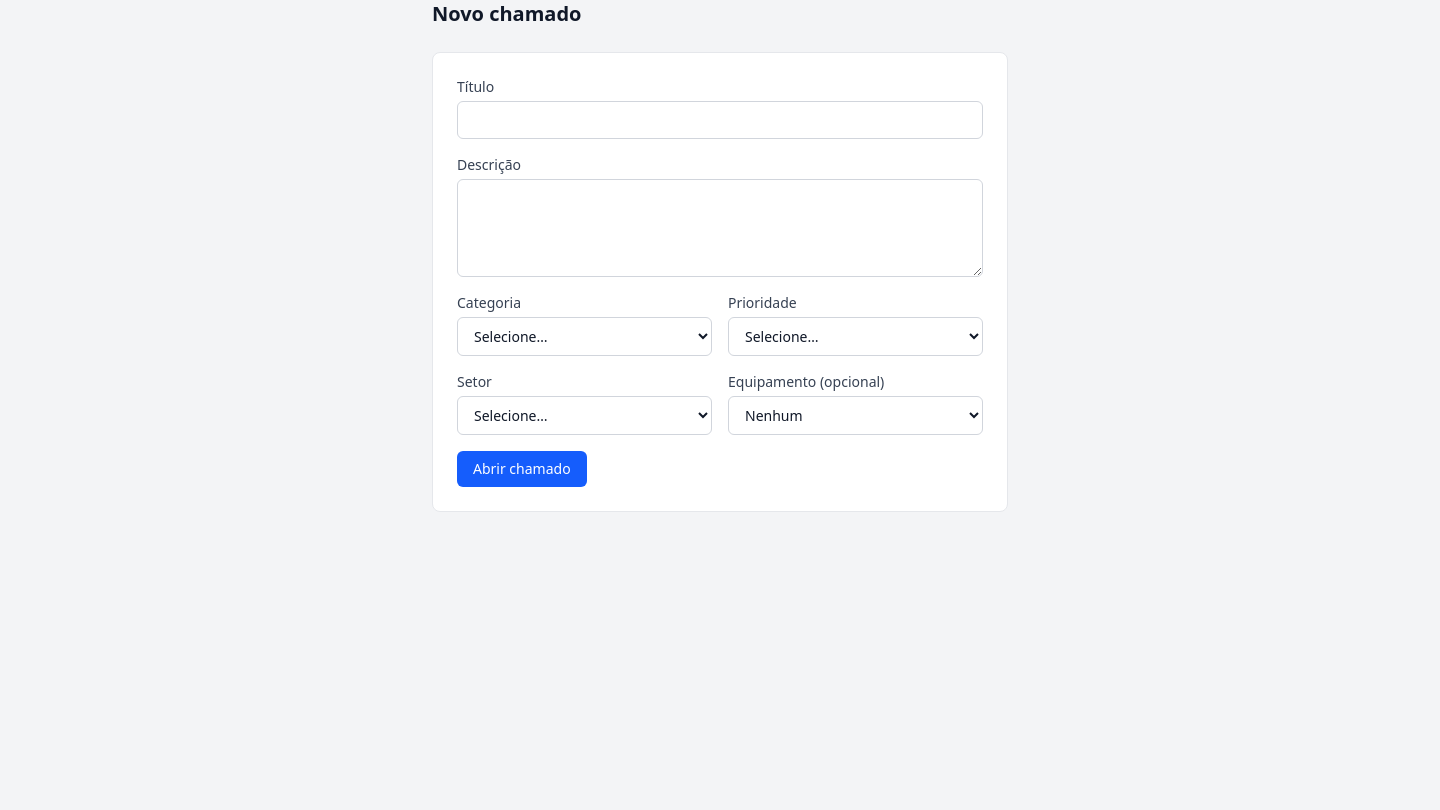
Test: NovoTicket: sugestões da base de conhecimento › abre o artigo num modal sem sair do formulário
In the field labelled "Título": [720, 120] box x1=457 y1=101 x2=983 y2=139, type "Impressora"
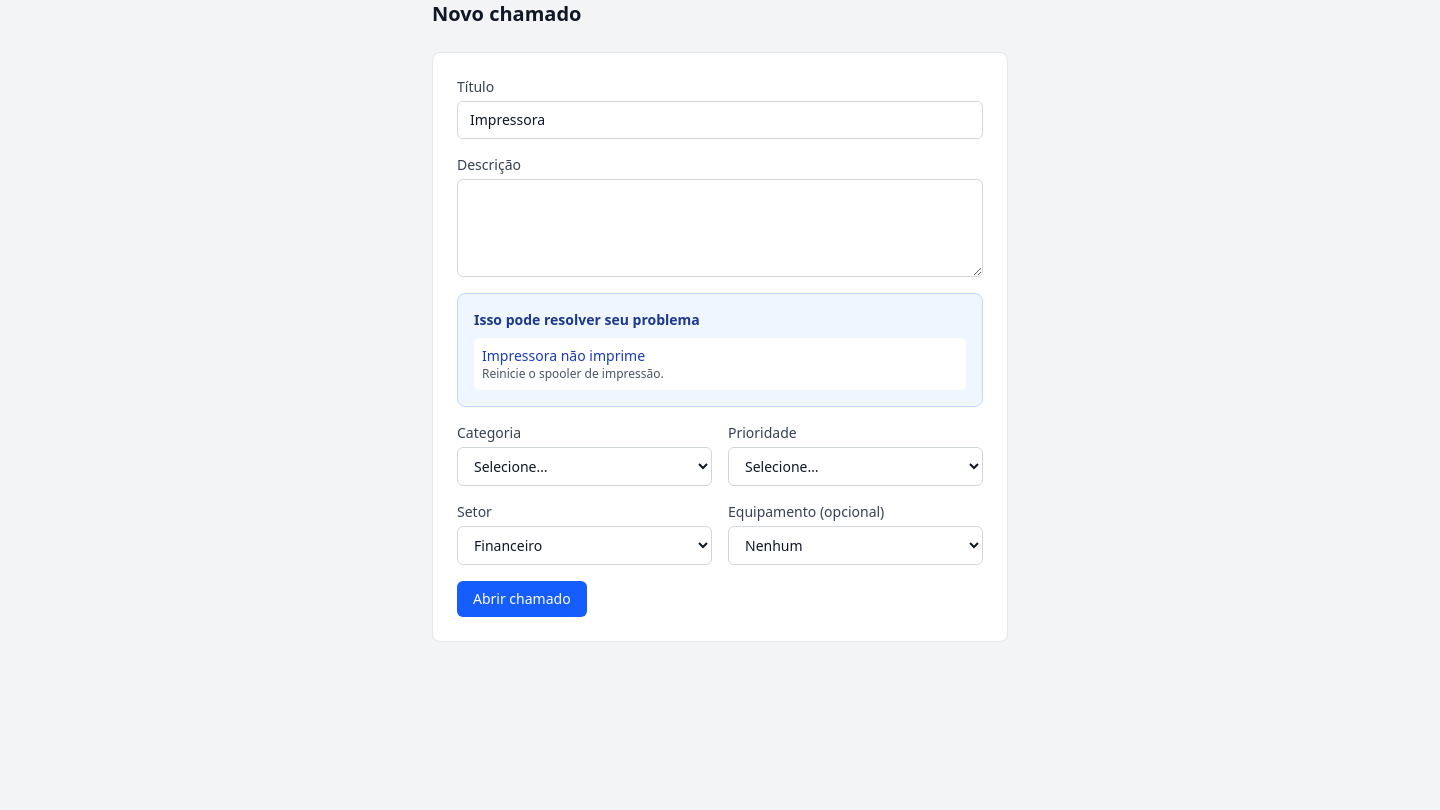
Click the button "Impressora não imprime Reinicie o spooler de impressão.": [564, 356] box x1=474 y1=338 x2=966 y2=390
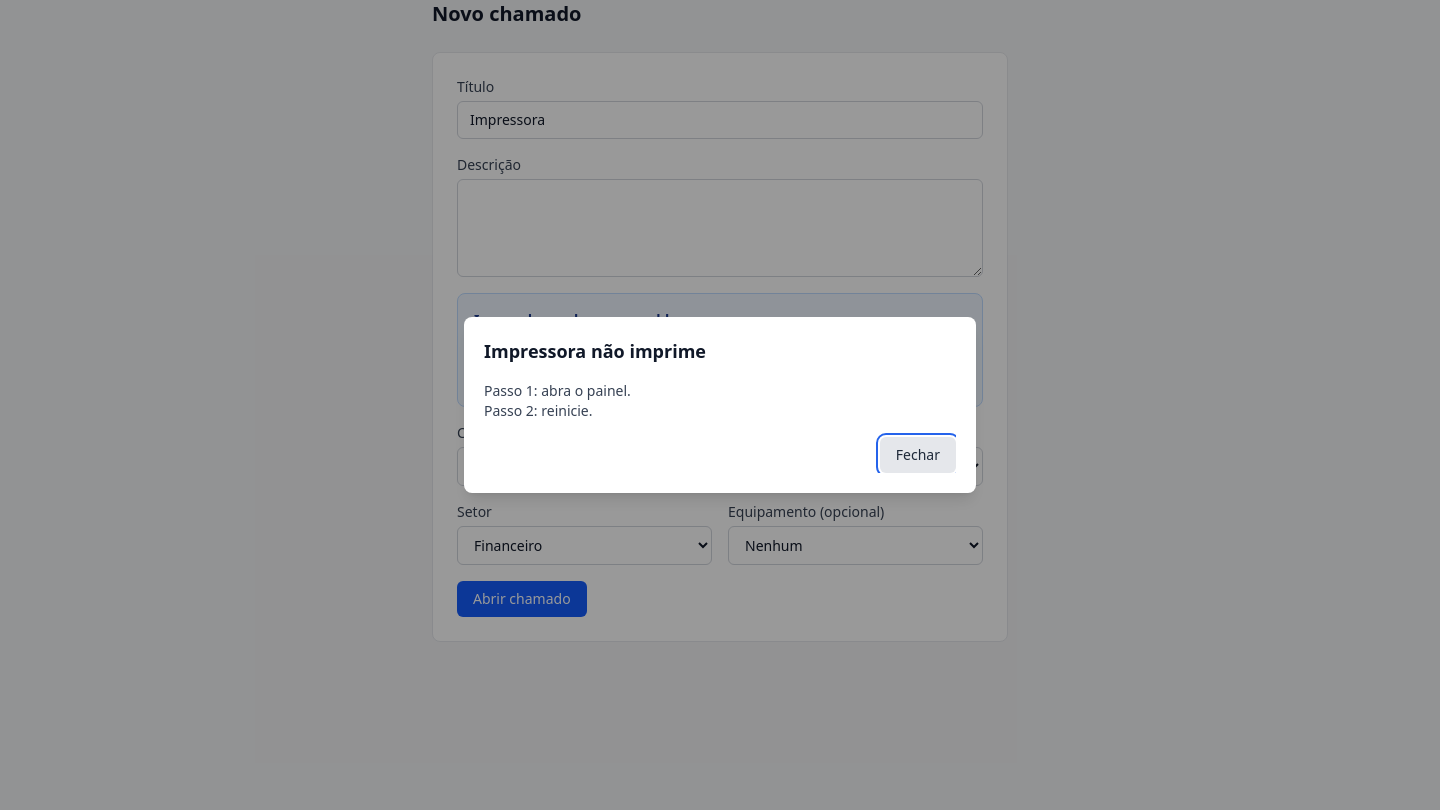
expect the text "Passo 1: abra o painel. Passo 2: reinicie." is shown: met, box x1=484 y1=381 x2=631 y2=420
Click the button "Fechar": [918, 455] box x1=880 y1=437 x2=956 y2=473
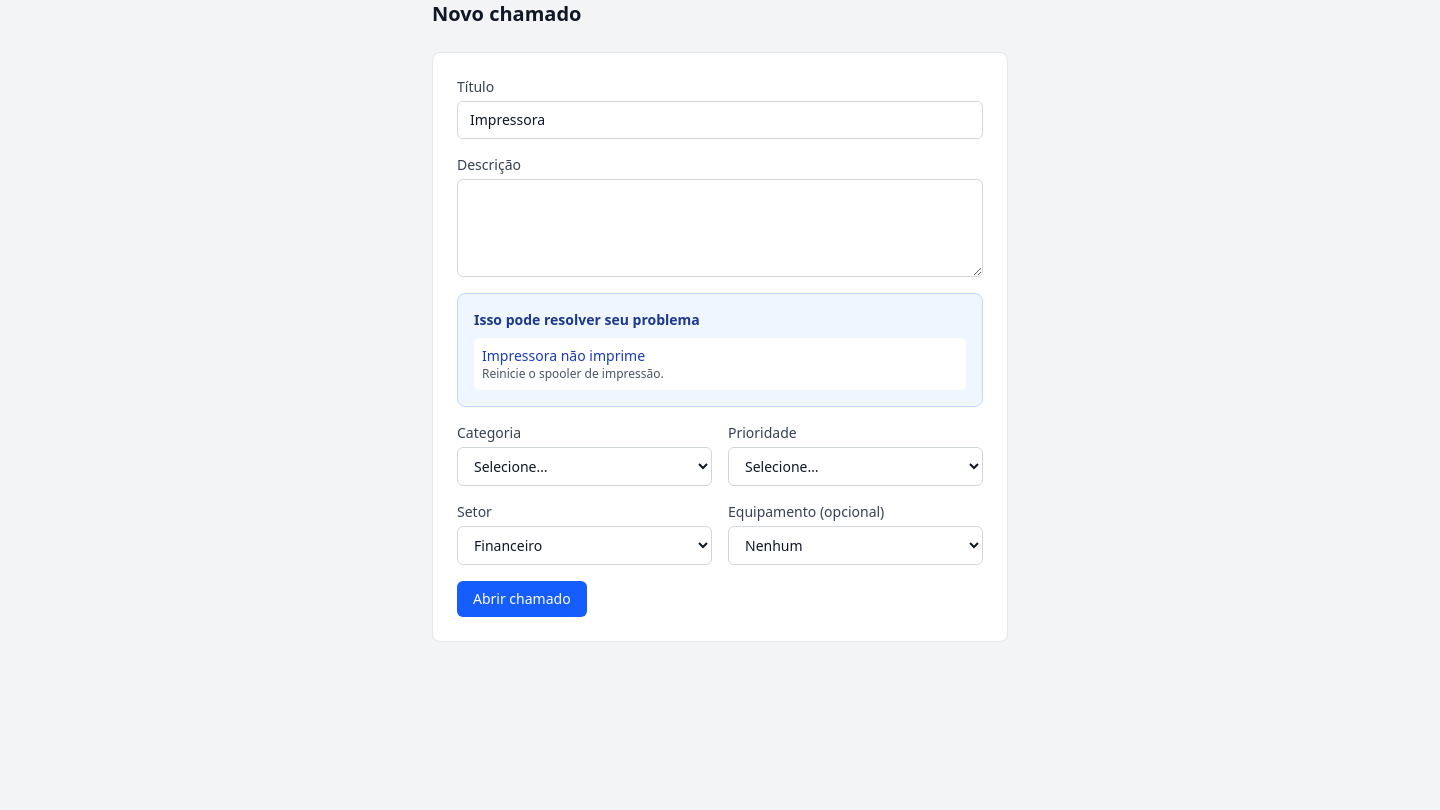
expect the dialog is gone: met
